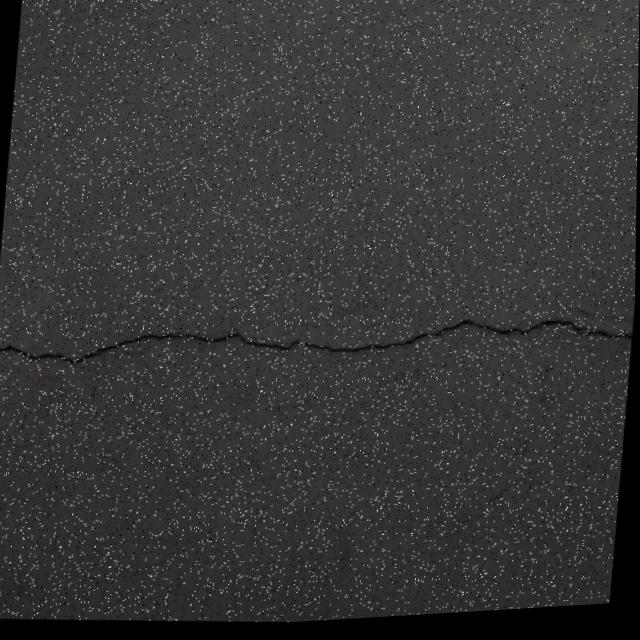Crack: (0, 249, 637, 422)
